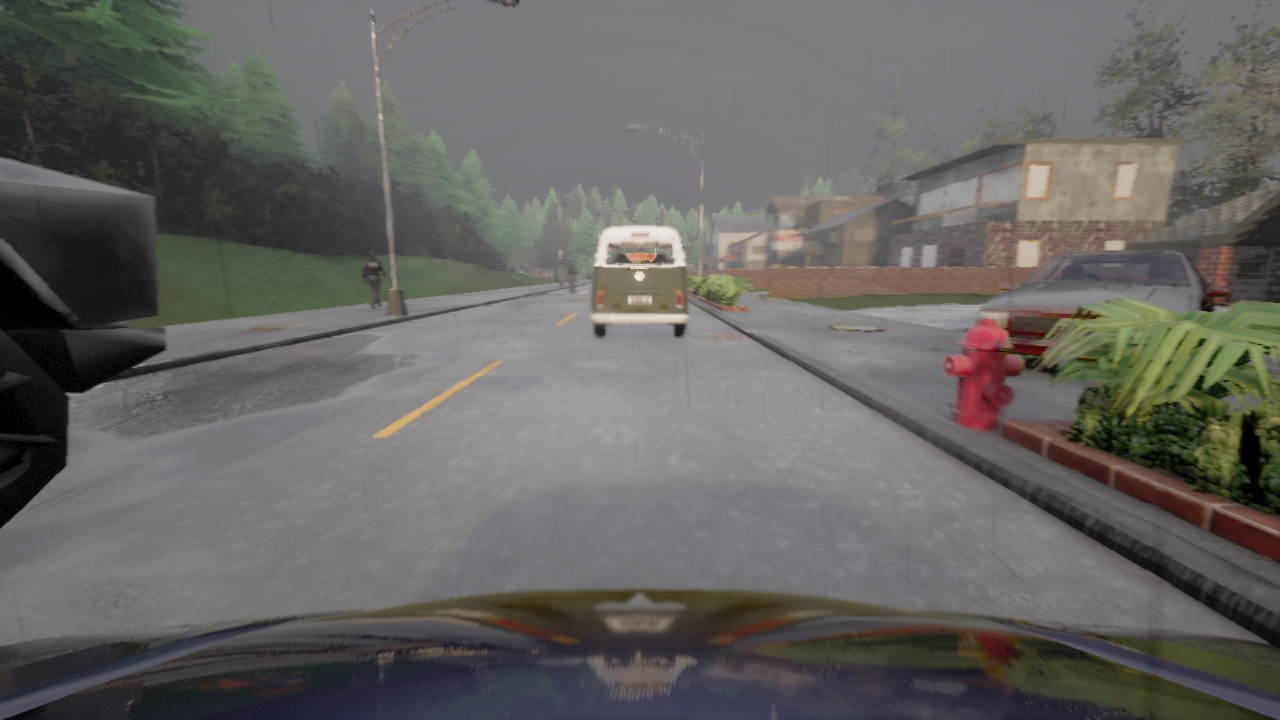cyclist: (0, 588, 1279, 719), (975, 250, 1232, 362), (591, 226, 688, 337), (570, 275, 574, 293)
pedestrian: (362, 250, 386, 309)
